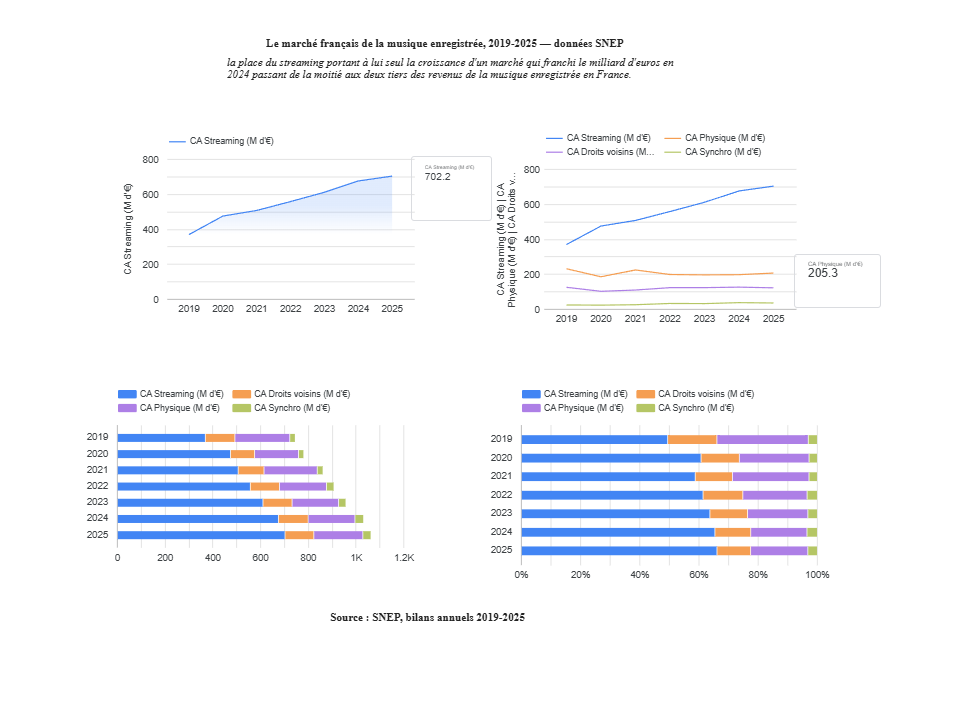

This screenshot's page, from the dashboard's own definition file:
{"tool":"powerbi","page":{"name":"Page 2","canvas":[1280,720],"ordinal":1},"visuals":[{"type":"hundredPercentStackedBarChart","title":"Proportions en % des CA générés en fonction du CA total du marché","fields":{"Category":["Sheet1.annee"],"Y":["Sum(Sheet1.ca_streaming_meur)","Sum(Sheet1.ca_physique_meur)","Sum(Sheet1.ca_synchro_meur)","Sum(Sheet1.ca_droits_voisins_meur)"]},"box":[82.7,193.3,552.7,434],"z":0},{"type":"barChart","title":"Proportions en M € des CA générés en fonction du CA total du marché","fields":{"Category":["Sheet1.annee"],"Y":["Sum(Sheet1.ca_streaming_meur)","Sum(Sheet1.ca_physique_meur)","Sum(Sheet1.ca_synchro_meur)","Sum(Sheet1.ca_droits_voisins_meur)"]},"box":[650,193.3,562.7,434],"z":1000},{"type":"cardVisual","fields":{"Data":["Table 1 (Sheet1).Part Streaming 2025"]},"box":[422.1,72,217.9,104.1],"z":2000},{"type":"cardVisual","fields":{"Data":["Table 1 (Sheet1).CA Streaming 2025"]},"box":[931.8,81.7,243.2,94.3],"z":2000},{"type":"textbox","box":[0,19.3,1280,33.3],"z":3000},{"type":"textbox","box":[0,640.7,1280,29.3],"z":4000}]}

Visuals, with their boxes on the page's 1280x720 design canvas (x1, y1, x2, y2). These are canvas units, not pixel positions in the 959x718 screenshot, which may show the page scaled, cropped or inside an application window:
"Proportions en % des CA générés en fonction du CA total du marché" hundredPercentStackedBarChart: <bbox>83, 193, 635, 627</bbox>
"Proportions en M € des CA générés en fonction du CA total du marché" barChart: <bbox>650, 193, 1213, 627</bbox>
cardVisual - Table 1 (Sheet1).Part Streaming 2025: <bbox>422, 72, 640, 176</bbox>
cardVisual - Table 1 (Sheet1).CA Streaming 2025: <bbox>932, 82, 1175, 176</bbox>
textbox: <bbox>0, 19, 1280, 53</bbox>
textbox: <bbox>0, 641, 1280, 670</bbox>
